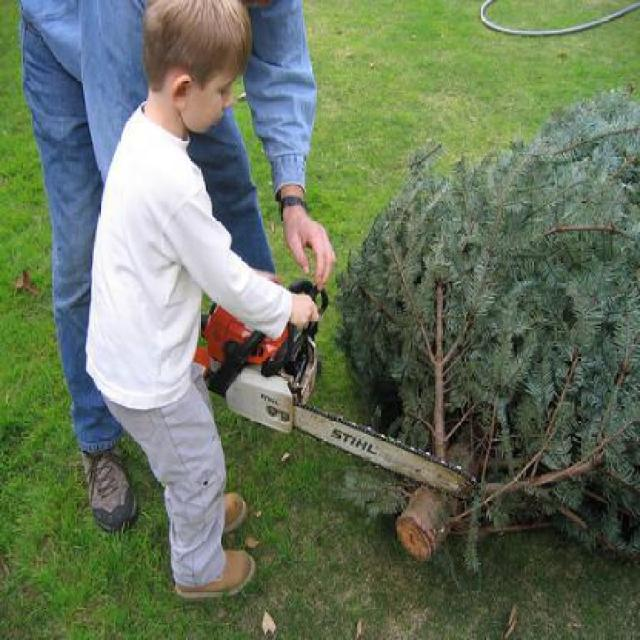Chainsaw: (192, 273, 476, 502)
